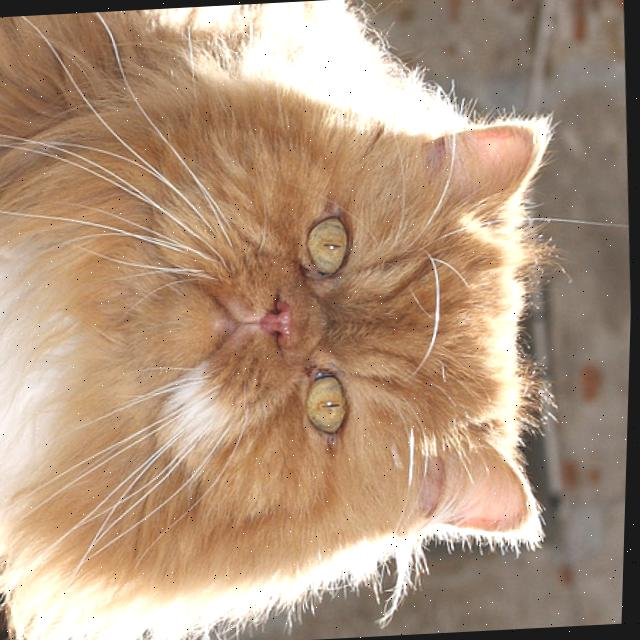Persian: (0, 0, 589, 640)
